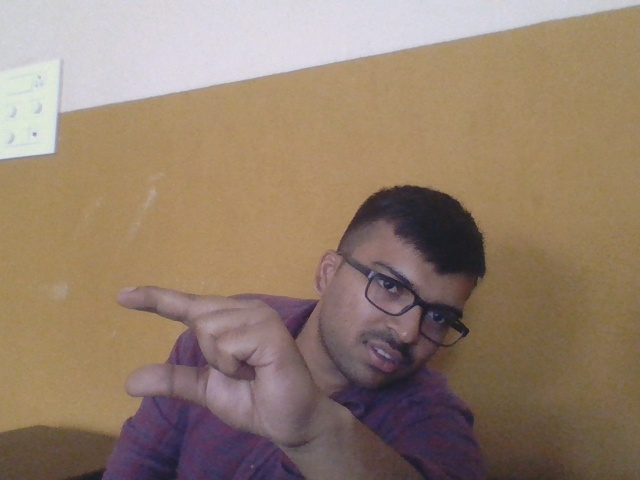No: (109, 281, 326, 447)
